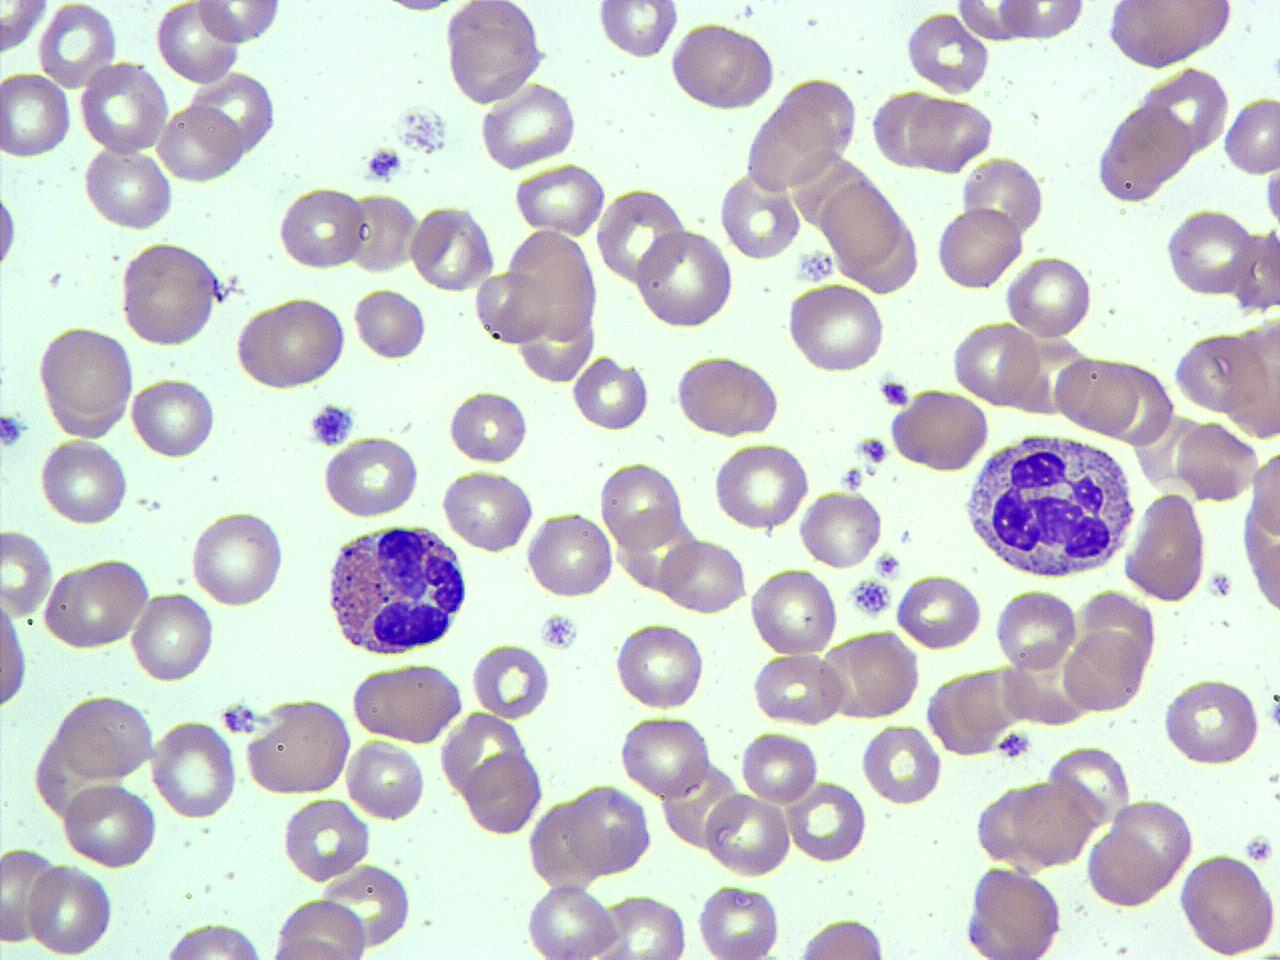Platelets: (395, 105, 450, 156), (306, 400, 358, 452), (536, 608, 580, 653), (849, 576, 894, 618), (362, 146, 404, 184), (796, 248, 836, 285), (854, 433, 889, 465), (878, 378, 912, 409), (996, 730, 1032, 758), (0, 411, 23, 452), (872, 552, 902, 580), (1205, 570, 1233, 600), (1265, 690, 1280, 736), (842, 465, 865, 492), (1267, 44, 1280, 86)
RBC: (34, 324, 137, 442), (442, 1, 550, 107), (233, 293, 348, 392), (118, 240, 223, 348), (1176, 850, 1278, 958), (243, 696, 353, 796), (505, 228, 598, 342), (42, 555, 150, 651), (959, 864, 1068, 960), (634, 227, 734, 330), (1121, 491, 1209, 605), (666, 20, 776, 112), (188, 507, 287, 609), (1160, 676, 1266, 768), (784, 280, 888, 373), (672, 353, 784, 439), (710, 440, 812, 532), (349, 661, 464, 743), (594, 185, 686, 286), (150, 717, 240, 821), (35, 436, 132, 528), (52, 694, 154, 782), (477, 82, 577, 170), (824, 628, 920, 720), (1105, 2, 1235, 70), (887, 388, 990, 473), (748, 564, 840, 658), (597, 457, 687, 553), (1162, 208, 1258, 297), (79, 61, 168, 155), (25, 862, 115, 957), (61, 782, 157, 870), (564, 783, 656, 874), (439, 467, 536, 554), (321, 435, 420, 518), (1172, 330, 1268, 416), (128, 589, 215, 685), (618, 714, 715, 800), (280, 794, 371, 884), (524, 510, 616, 600), (80, 144, 174, 231), (276, 183, 368, 271), (614, 621, 703, 711), (703, 790, 792, 879), (408, 202, 495, 293), (1111, 795, 1197, 886), (718, 168, 802, 262), (950, 319, 1042, 404), (1004, 253, 1096, 339), (934, 205, 1022, 292), (904, 7, 991, 96), (959, 154, 1047, 241), (992, 585, 1078, 673), (127, 375, 217, 460), (892, 570, 984, 652), (523, 883, 622, 959), (154, 1, 241, 87), (1060, 629, 1148, 714), (1052, 351, 1142, 434), (750, 649, 847, 726), (820, 179, 902, 269), (36, 1, 118, 91), (344, 736, 428, 822), (510, 162, 608, 236), (464, 749, 544, 838), (657, 536, 748, 615), (471, 264, 554, 349), (1175, 416, 1257, 503), (157, 103, 246, 183), (860, 722, 943, 806), (787, 781, 869, 866), (799, 488, 884, 570), (1239, 454, 1280, 620), (1084, 824, 1166, 908), (906, 96, 993, 174), (694, 882, 784, 958), (0, 68, 73, 160), (471, 640, 552, 722), (594, 890, 688, 960), (346, 190, 420, 277), (570, 353, 651, 432), (446, 388, 530, 464), (351, 284, 429, 362), (738, 728, 818, 804), (278, 894, 368, 960), (0, 846, 58, 945), (0, 524, 56, 618), (593, 0, 681, 59), (1094, 136, 1168, 205), (1221, 94, 1279, 177), (788, 916, 893, 958), (158, 921, 266, 959), (194, 0, 282, 46), (996, 0, 1089, 42), (0, 584, 29, 716), (952, 0, 1036, 44), (1250, 437, 1280, 552), (0, 0, 49, 56), (264, 934, 354, 960), (0, 182, 20, 280)
WBC: (962, 425, 1138, 585), (321, 518, 472, 658), (1106, 2, 1236, 69)
